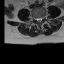CCS_normal: (38, 15, 40, 24)
LFS_normal: (42, 14, 44, 20)
LLS_normal: (40, 15, 42, 22)
RFS_normal: (34, 15, 36, 21)
RLS_normal: (36, 15, 38, 23)
